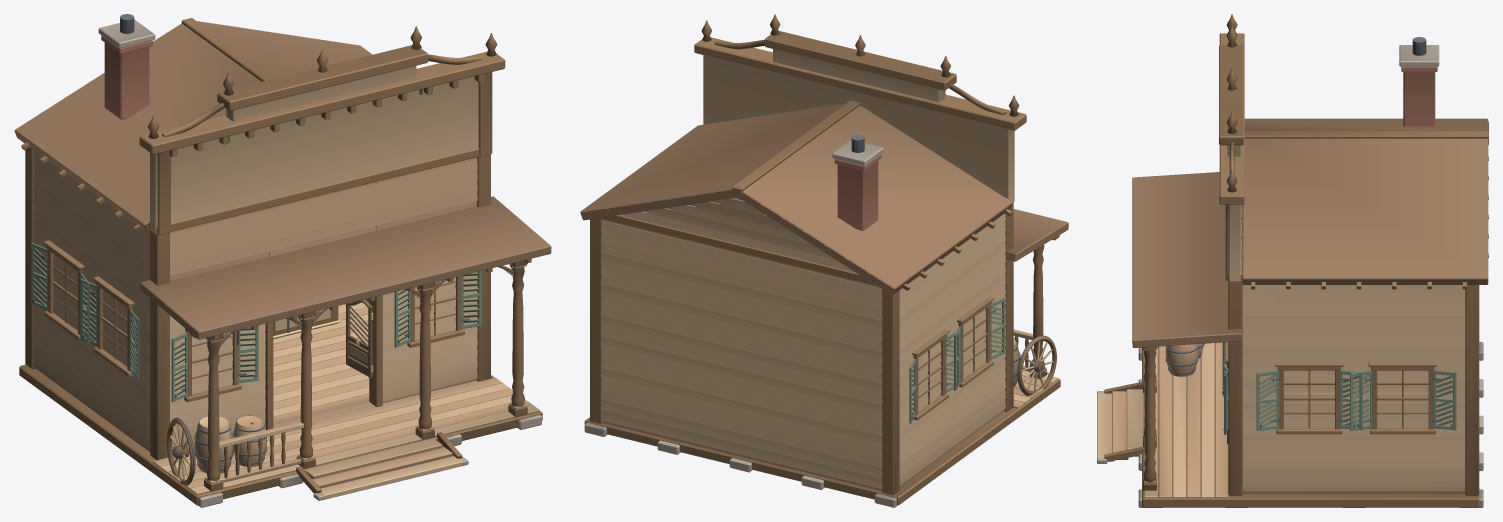
File: saloon.glb
The picture shows the model from 3 angles, left to right: view 1: azimuth 30°, elevation 25°; view 2: azimuth 150°, elevation 25°; view 3: azimuth 270°, elevation 25°; orthographic projection. The views are drawn at different scales.
Visible parts, largest first — view 1: SaloonArchitecture; view 2: SaloonArchitecture; view 3: SaloonArchitecture.
Part boxes in pixels (bbox=[...]): SaloonArchitecture: bbox=[14, 14, 551, 507]; SaloonArchitecture: bbox=[580, 14, 1068, 507]; SaloonArchitecture: bbox=[1097, 14, 1488, 507].
Size of the model in its own units: 6.8 by 7 by 6.88.
